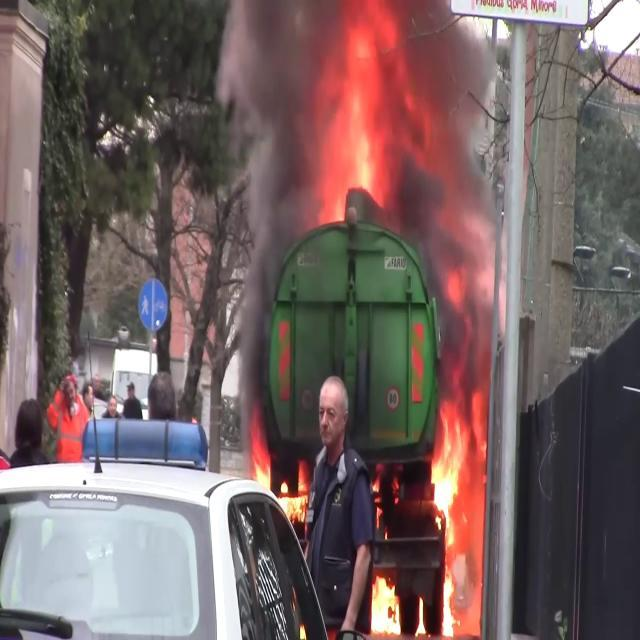Fire: (320, 9, 396, 222), (426, 388, 478, 632), (250, 435, 308, 528), (367, 566, 428, 638)
Smoke: (382, 1, 508, 397), (221, 0, 325, 422)
